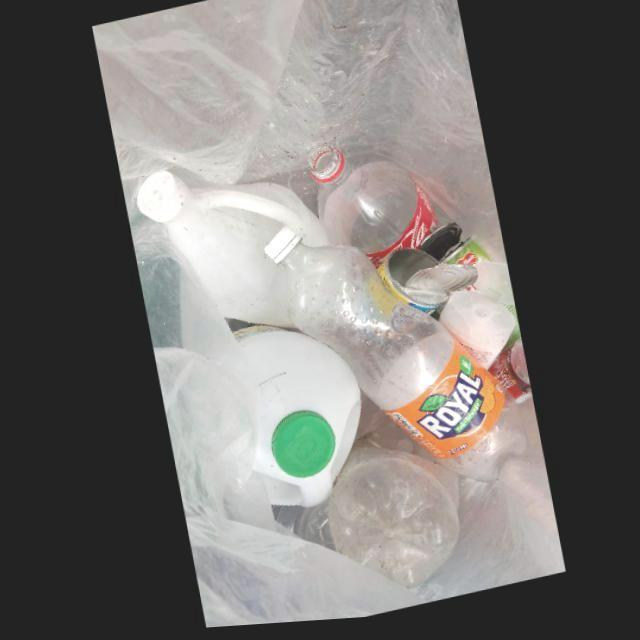aluminum: (375, 253, 477, 320), (420, 227, 492, 272)
plastic_bottle: (263, 230, 525, 488), (136, 172, 329, 335), (231, 328, 360, 511), (325, 443, 457, 593), (307, 147, 453, 274), (437, 269, 514, 376), (486, 343, 531, 410)
